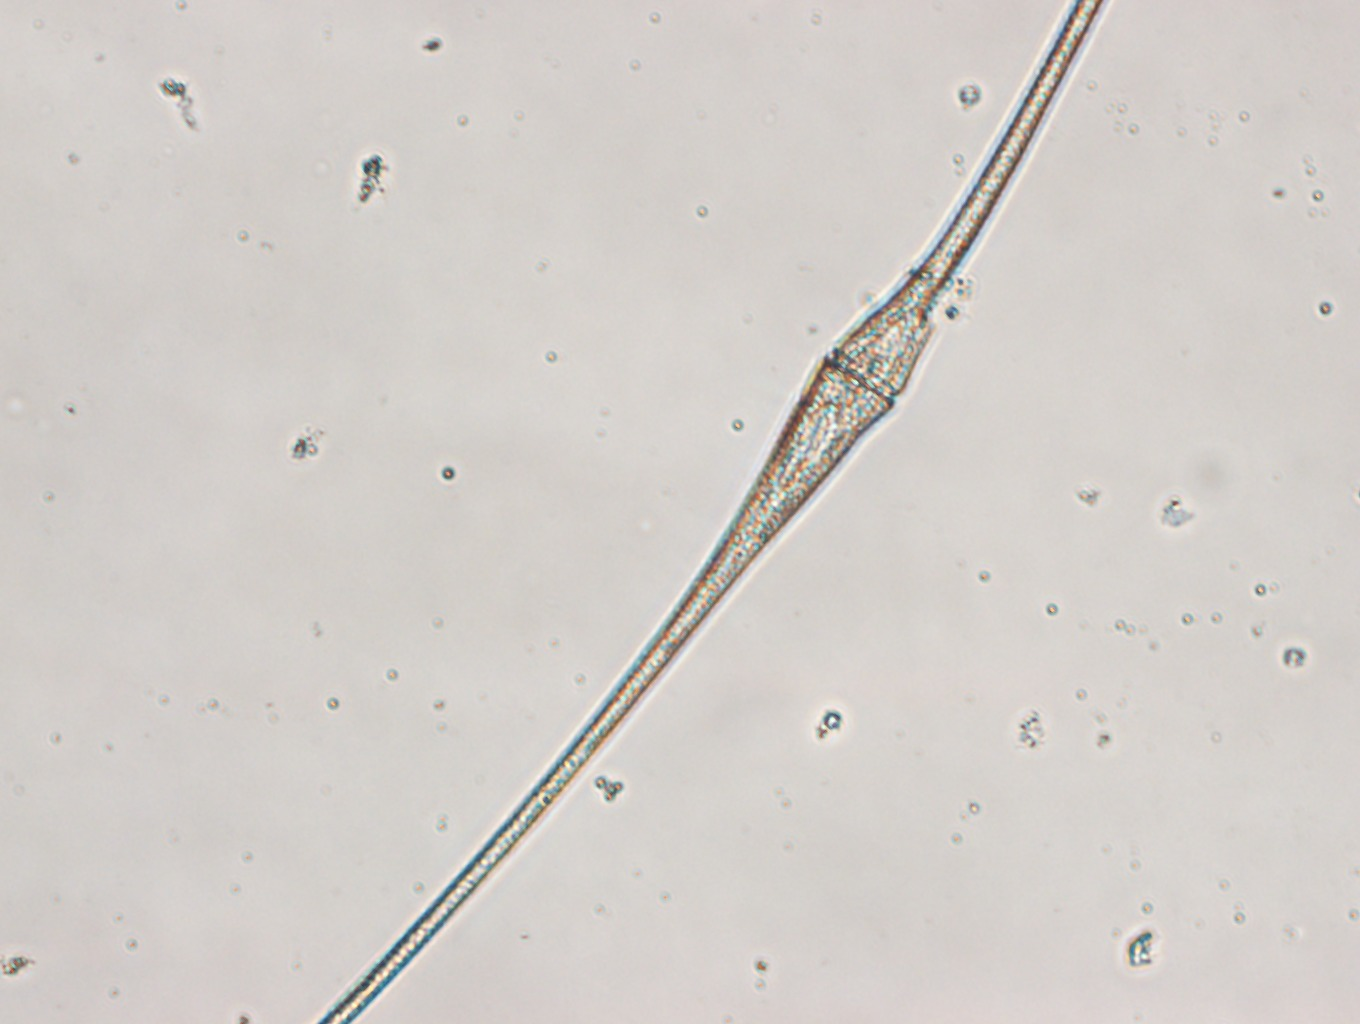ceratium fusus: (318, 1, 1110, 1024)
